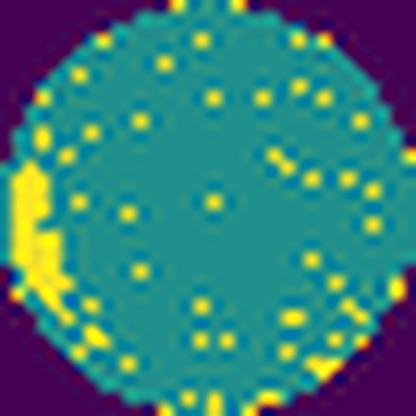Loc: (13, 162, 77, 323)
